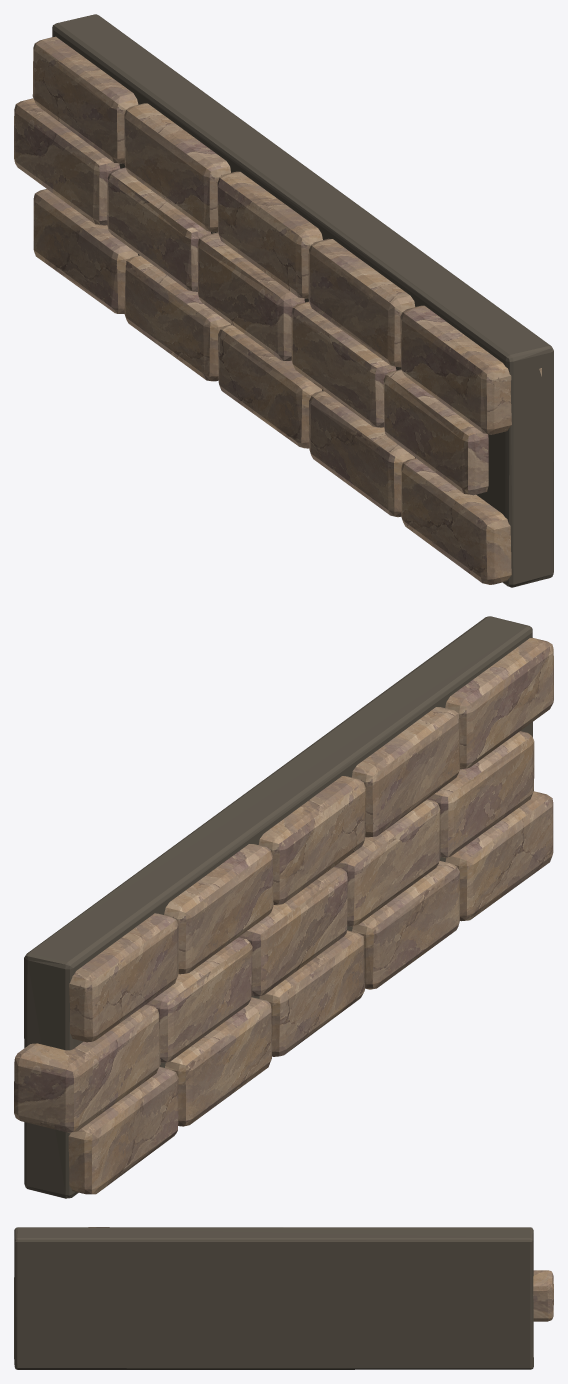
The model's file is SM_HH_Q2_StoneWainscot2m.fbx.
3 renders of one model, top to bottom at view 1: azimuth 30°, elevation 25°; view 2: azimuth 150°, elevation 25°; view 3: azimuth 270°, elevation 25°, orthographic. The views are drawn at different scales.
Visible parts, largest first — view 1: HH_Q2_StoneWainscot2m; view 2: HH_Q2_StoneWainscot2m; view 3: HH_Q2_StoneWainscot2m.
Part boxes in pixels (x1,y1,x2,y2): HH_Q2_StoneWainscot2m: (14, 14, 553, 587); HH_Q2_StoneWainscot2m: (14, 616, 553, 1198); HH_Q2_StoneWainscot2m: (14, 1227, 553, 1369).
Size of the model in its own units: 2.07 by 0.1783 by 0.557.
